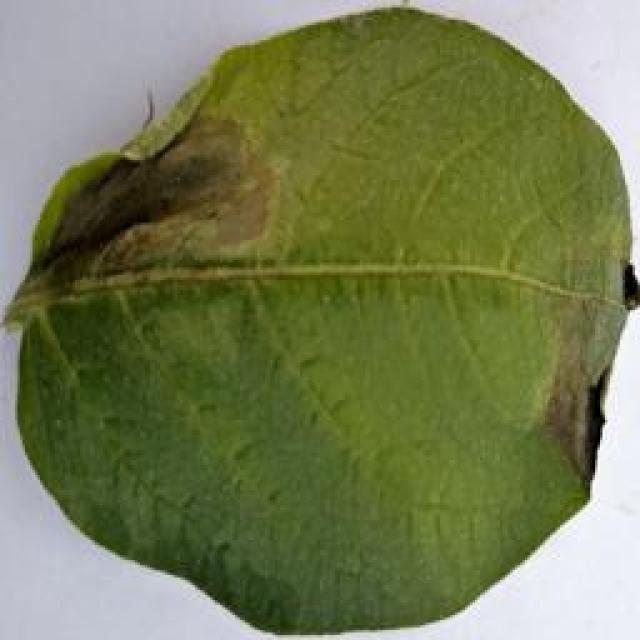Potato_Late_Blight: (4, 11, 622, 630)
